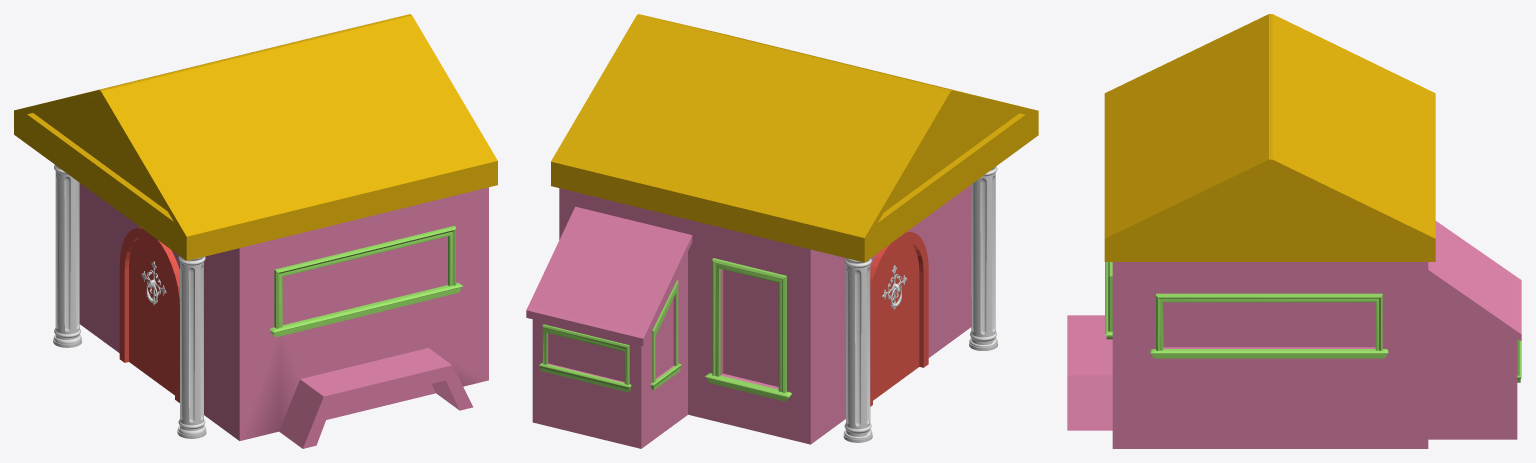
File: casa2.fbx
The picture shows the model from 3 angles, left to right: view 1: azimuth 30°, elevation 25°; view 2: azimuth 150°, elevation 25°; view 3: azimuth 270°, elevation 25°; orthographic projection. The views are drawn at different scales.
Parts seen in each view (by area): view 1: tejado, casa2, puerta_casa2, ventanas.002, ColumnaCasa2, ColumnaCasa2.001; view 2: tejado, casa2, puerta_casa2, ventanas.002, ColumnaCasa2.001, ColumnaCasa2; view 3: casa2, tejado, ventanas.002.
Part boxes in pixels (left/top/right/bottom): tejado: left=14, top=14, right=497, bottom=260; casa2: left=79, top=183, right=488, bottom=448; puerta_casa2: left=119, top=227, right=179, bottom=402; ventanas.002: left=269, top=225, right=463, bottom=337; ColumnaCasa2: left=177, top=255, right=206, bottom=438; ColumnaCasa2.001: left=53, top=165, right=81, bottom=347; tejado: left=551, top=14, right=1038, bottom=262; casa2: left=526, top=185, right=971, bottom=448; puerta_casa2: left=870, top=231, right=928, bottom=406; ventanas.002: left=539, top=258, right=791, bottom=401; ColumnaCasa2.001: left=843, top=258, right=872, bottom=442; ColumnaCasa2: left=969, top=166, right=997, bottom=350; casa2: left=1067, top=221, right=1521, bottom=448; tejado: left=1104, top=14, right=1435, bottom=261; ventanas.002: left=1105, top=262, right=1521, bottom=382.
Bounding box in the file's own units: 600 × 556 × 786.
